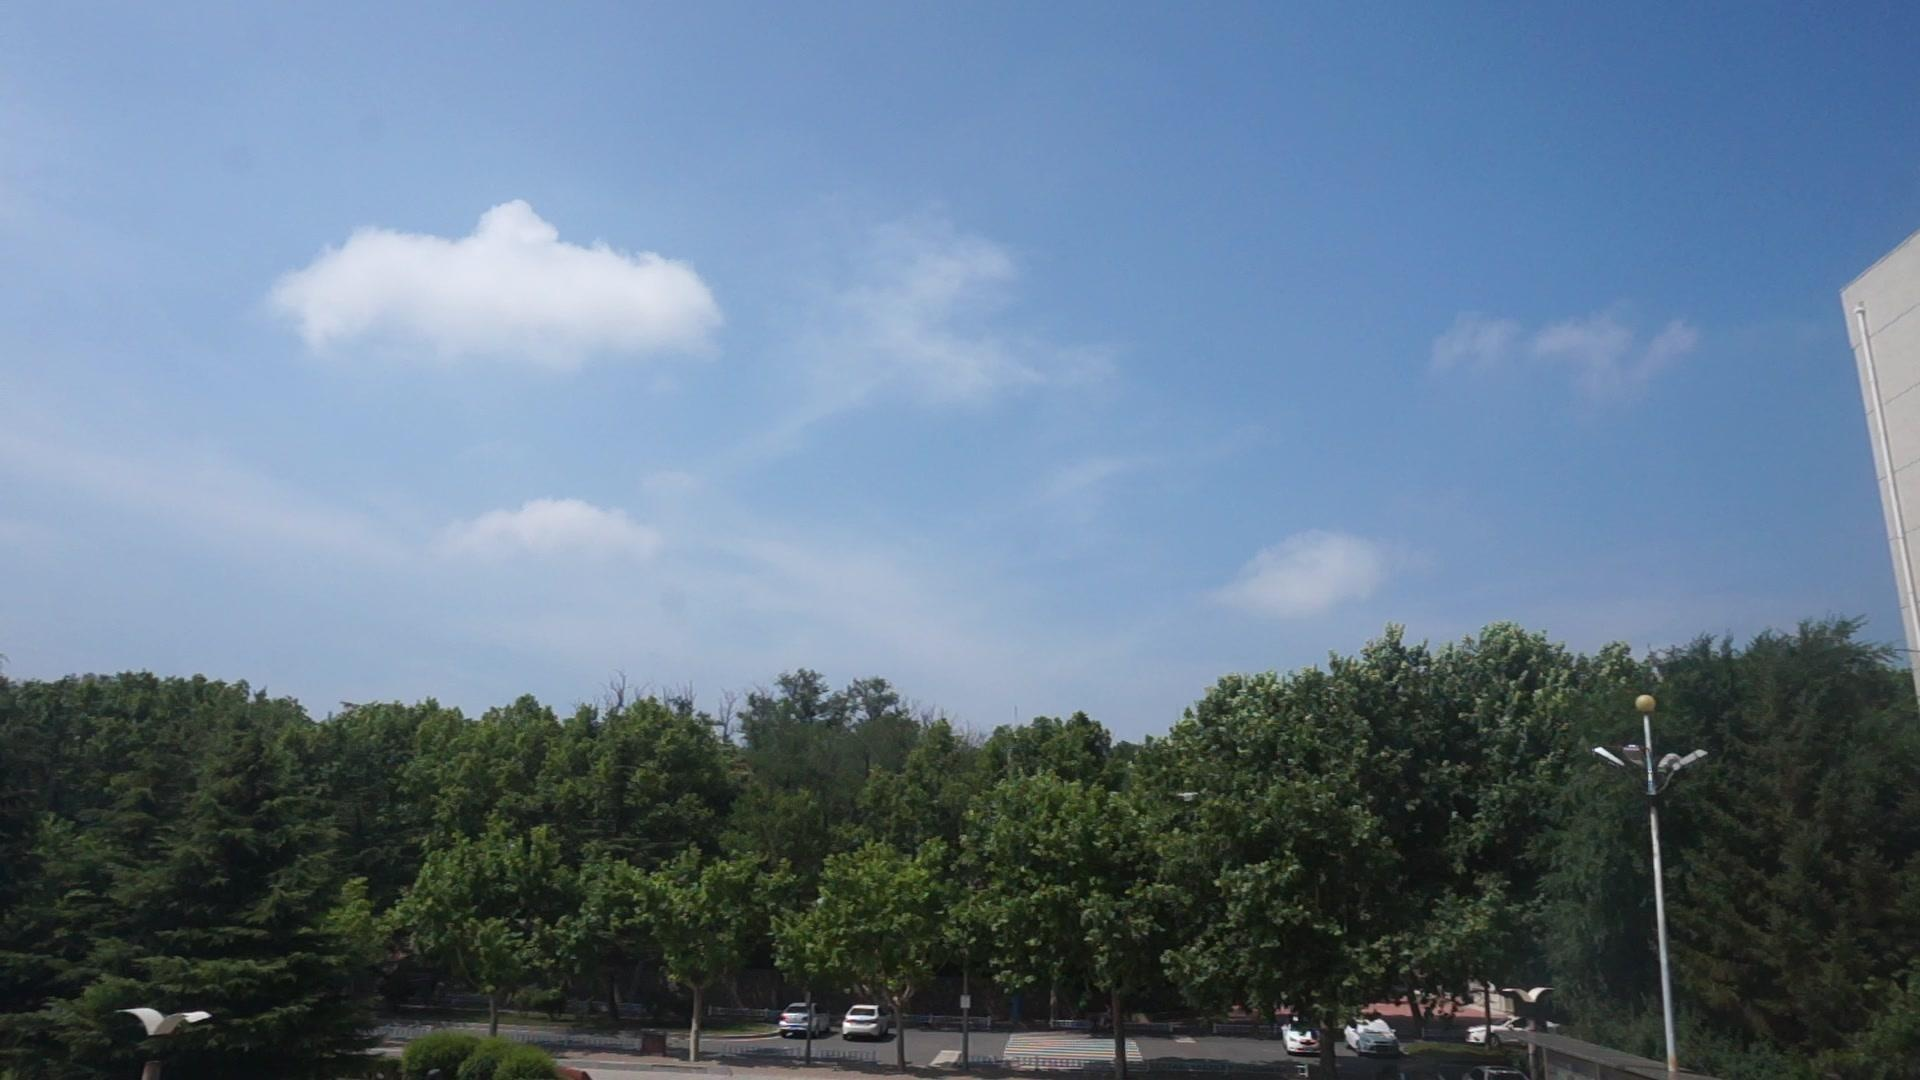UAV: (1178, 793, 1199, 802)
